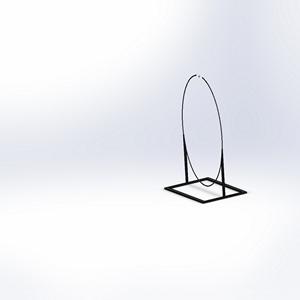circle: (162, 71, 248, 204)
